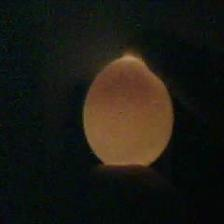infertile: (81, 55, 174, 168)
